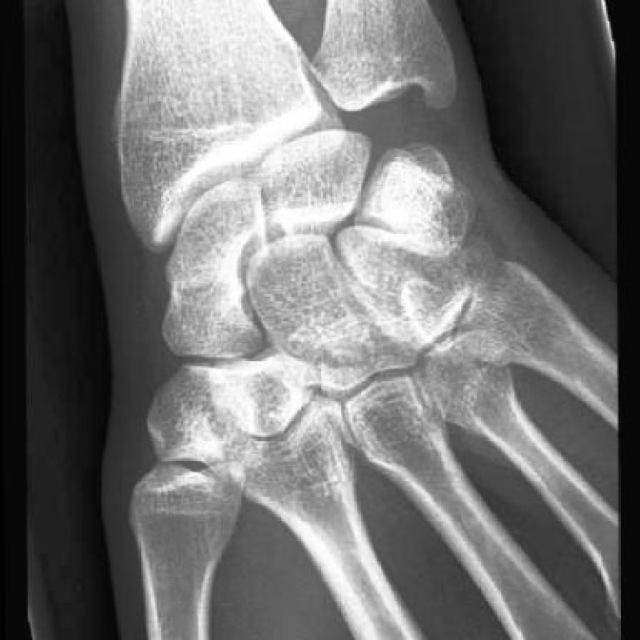Fracture: (166, 257, 247, 302)
